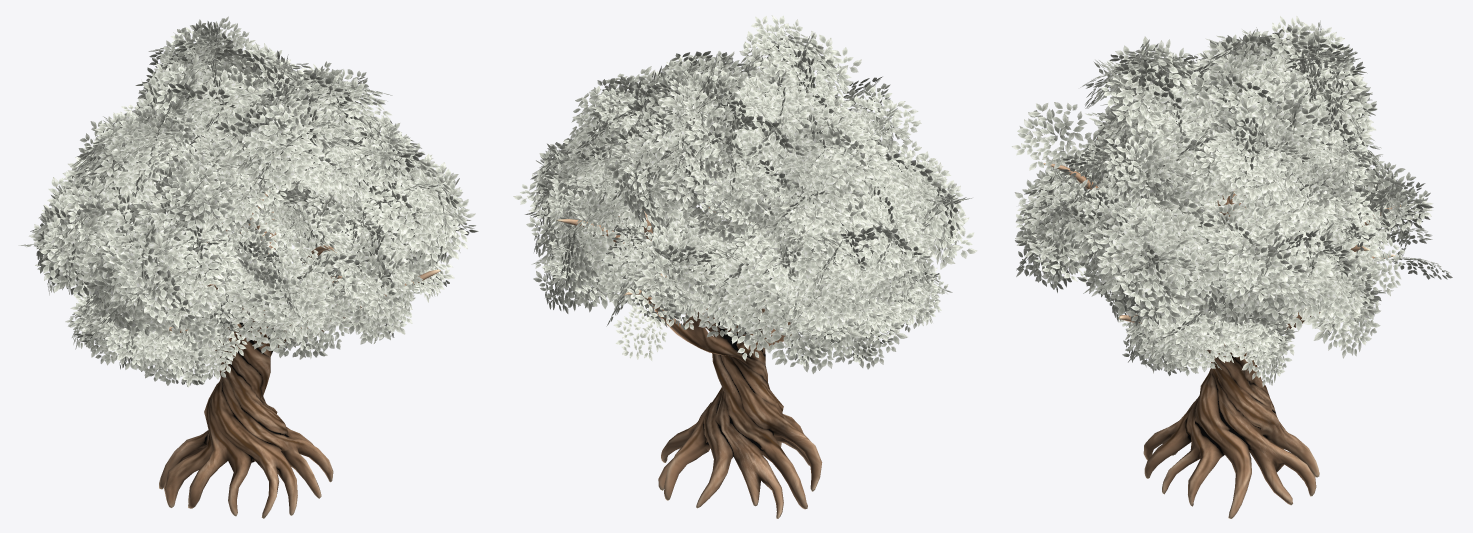
File: Main_Tree002.fbx
The picture shows the model from 3 angles, left to right: view 1: azimuth 30°, elevation 25°; view 2: azimuth 150°, elevation 25°; view 3: azimuth 270°, elevation 25°; orthographic projection. The views are drawn at different scales.
Visible parts, largest first — view 1: MSH_fwOF_Tree_Med_02_LOD0, ZBrush_defualt_group; view 2: MSH_fwOF_Tree_Med_02_LOD0, ZBrush_defualt_group; view 3: MSH_fwOF_Tree_Med_02_LOD0, ZBrush_defualt_group.
Boxes of the visible parts, x1,y1,x2,y2 form: MSH_fwOF_Tree_Med_02_LOD0: [18, 16, 478, 387]; ZBrush_defualt_group: [159, 190, 440, 518]; MSH_fwOF_Tree_Med_02_LOD0: [513, 15, 977, 373]; ZBrush_defualt_group: [556, 105, 840, 518]; MSH_fwOF_Tree_Med_02_LOD0: [1012, 16, 1452, 386]; ZBrush_defualt_group: [1043, 138, 1400, 518].
Size of the model in its own units: 291 by 317 by 278.
